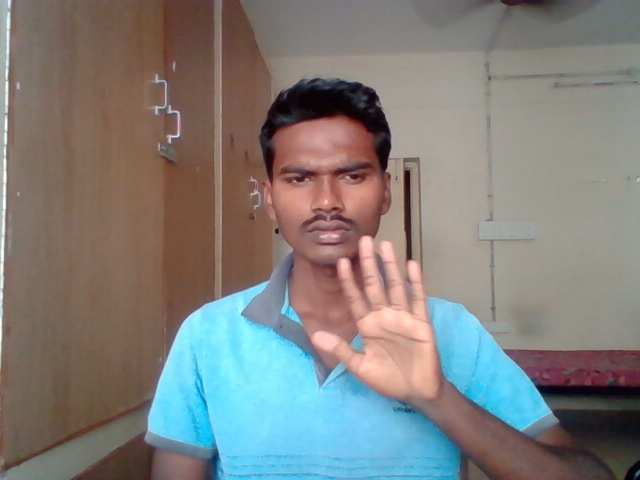Hello: (308, 233, 444, 405)
